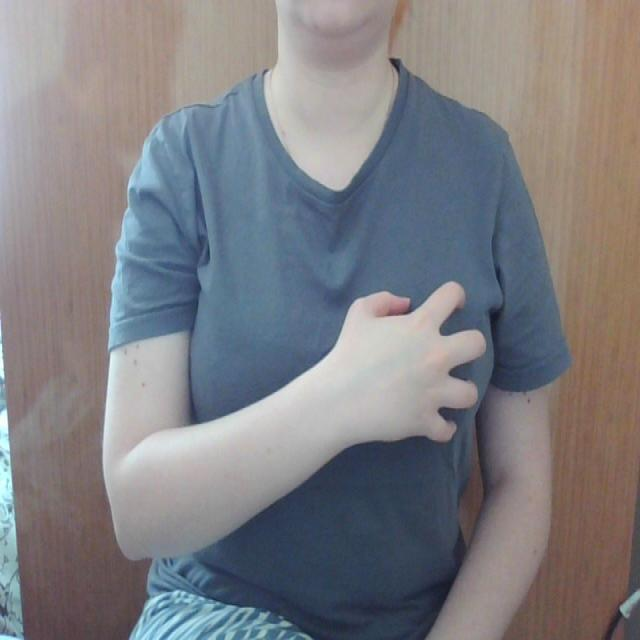Anne: (194, 251, 499, 462)
